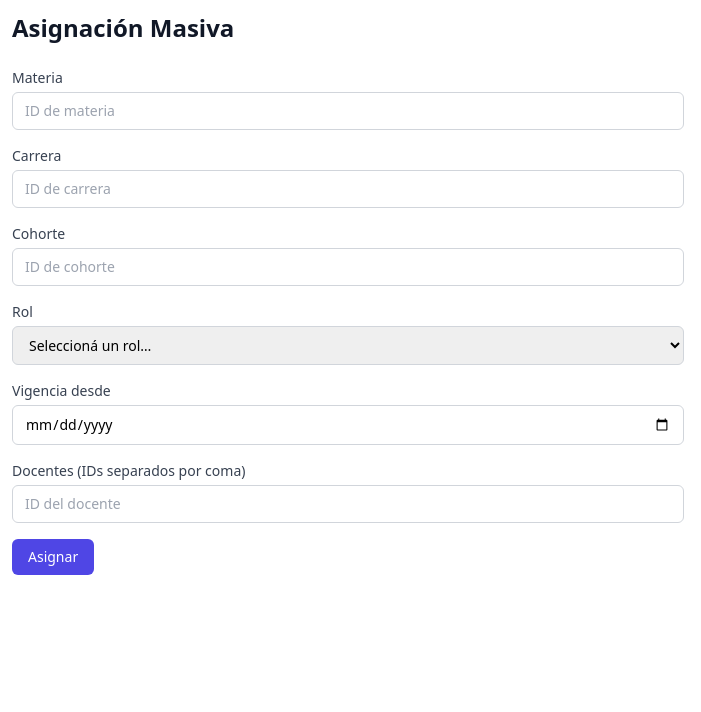
Test: AsignacionMasivaPage › shows validation error when submitting empty form
Step 1. Click the button "Asignar" → (53, 557), box [12, 539, 94, 575]
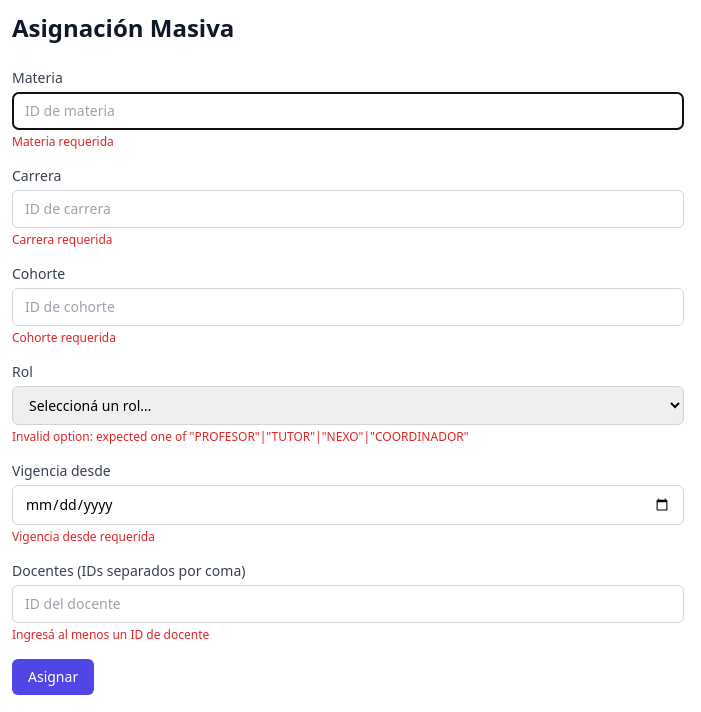
Expected: the text "Materia requerida" is shown, [12, 133, 114, 150]
